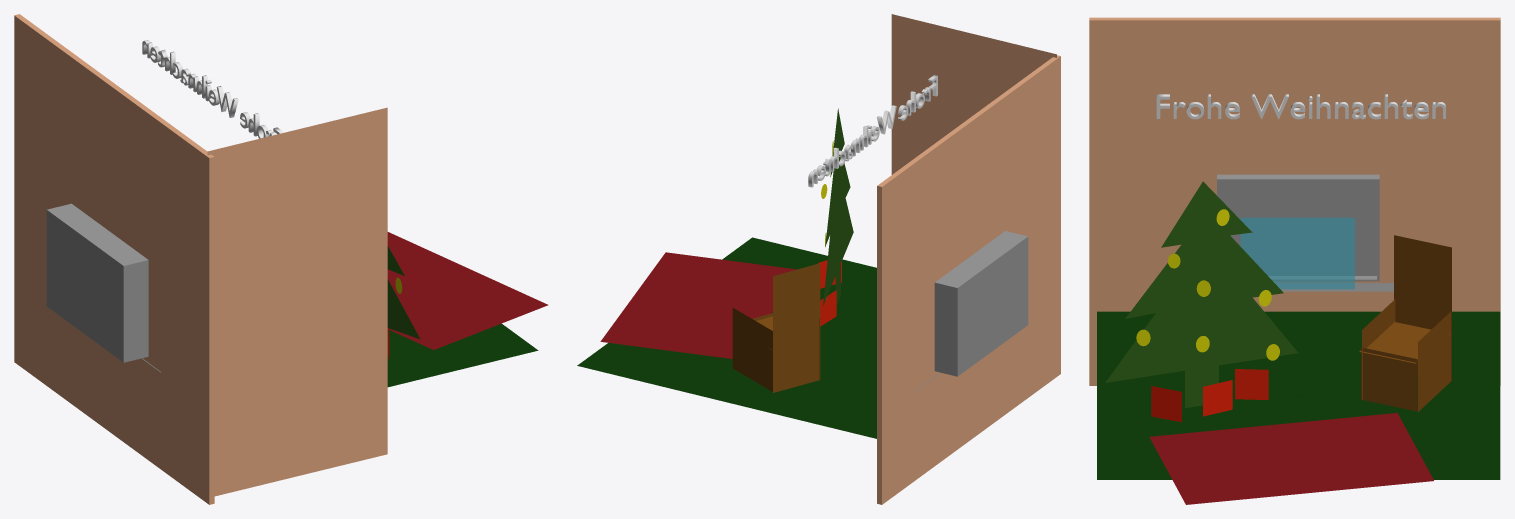
Rendered from asset.glb.
3 renders of one model, left to right at view 1: azimuth 30°, elevation 25°; view 2: azimuth 150°, elevation 25°; view 3: azimuth 270°, elevation 25°, orthographic. The views are drawn at different scales.
Parts seen in each view (by area): view 1: Plane.001, Plane.002, Plane.003, Curve.011, Plane, Text, Curve; view 2: Plane.002, Plane, Plane.001, Curve.011, Plane.003, Curve.016, Curve, Curve.013, Text; view 3: Plane.002, Plane, Curve, Curve.011, Plane.003, Plane.004, Curve.016, Text, Curve.015, Curve.013, Curve.014, Curve.009 (+4 smaller).
Part boxes in pixels (x1,y1,x2,y2): Plane.001: (207,107,387,496); Plane.002: (14,14,214,504); Plane.003: (46,203,148,362); Curve.011: (387,232,548,349); Plane: (387,323,538,387); Text: (142,40,283,138); Curve: (387,246,419,338); Plane.002: (877,55,1060,504); Plane: (577,237,876,438); Plane.001: (891,14,1056,174); Curve.011: (600,252,796,358); Plane.003: (934,231,1028,376); Curve.016: (773,263,820,392); Curve: (823,108,853,305); Curve.013: (732,308,772,391); Text: (808,75,937,187); Plane.002: (1089,17,1500,385); Plane: (1097,311,1500,479); Curve: (1105,181,1298,407); Curve.011: (1149,413,1433,504); Plane.003: (1217,174,1379,281); Plane.004: (1240,217,1354,289); Curve.016: (1394,235,1451,381); Text: (1156,94,1445,119); Curve.015: (1361,347,1417,411); Curve.013: (1418,311,1451,411); Curve.014: (1359,322,1450,363); Curve.009: (1235,369,1268,400).
Bounding box in the file's own units: 3.56 × 2.91 × 2.93.
